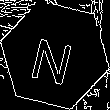N_N: (30, 26, 80, 84)
